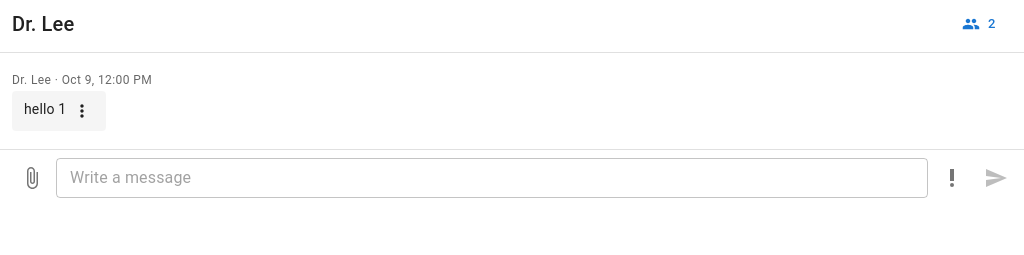
Scenario: Conversation › shows the error and keeps the text when a send fails
Expected: the text "hello 1" is shown, x1=24 y1=99 x2=66 y2=119
Type "x" into the text box with test id "message-input" at (492, 178), box x1=70 y1=166 x2=914 y2=189
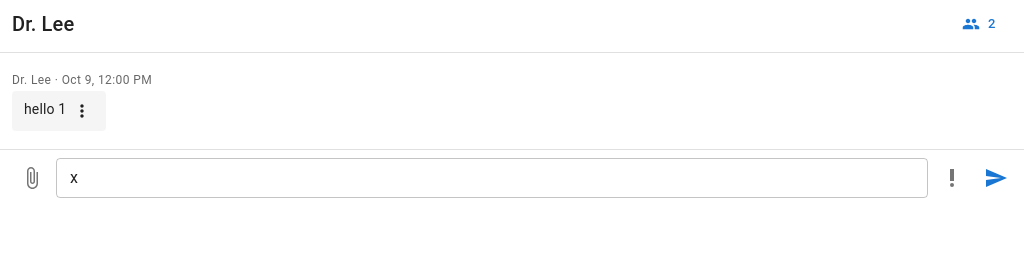
Click the button with test id "send-button" at (996, 178), box x1=976 y1=158 x2=1016 y2=198
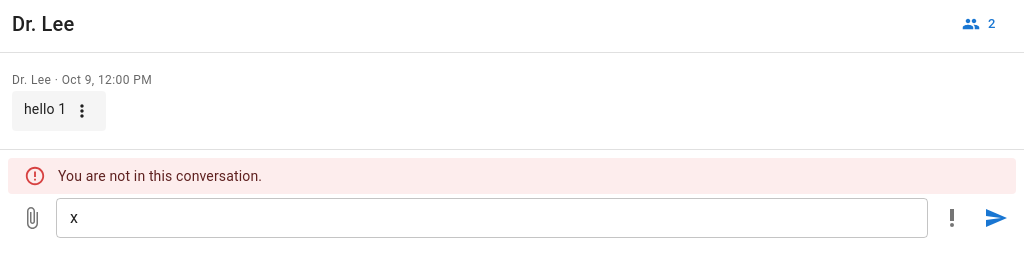
Expected: the message "You are not in this conversation." is shown, x1=8 y1=158 x2=1016 y2=194
